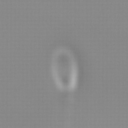normal: (56, 93, 84, 128)
